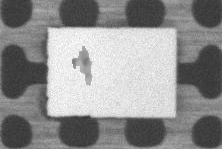DIE_INK: (69, 44, 93, 86)
